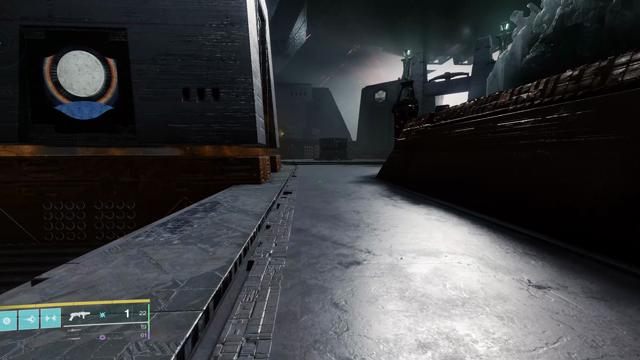traveler: (41, 46, 120, 120)
